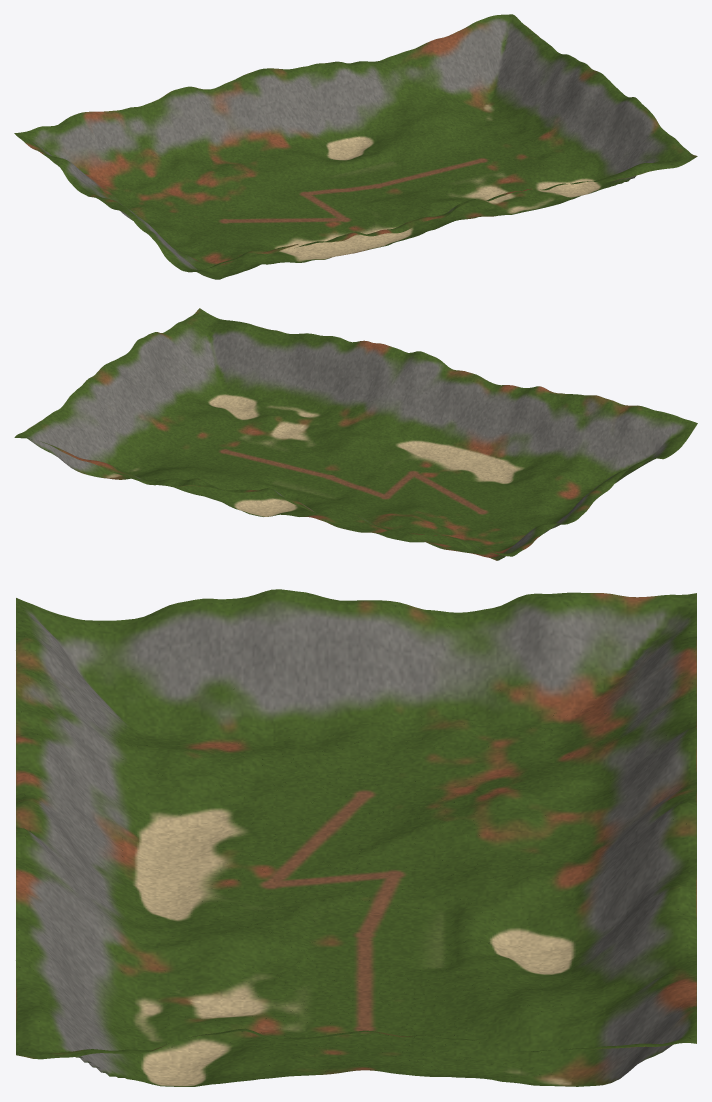
The model's file is SM_Art_Terrain_L_CrownCitadelApproach.gltf.
3 views of the same model, one above another, from view 1: azimuth 30°, elevation 25°; view 2: azimuth 150°, elevation 25°; view 3: azimuth 270°, elevation 25° (orthographic). The views are drawn at different scales.
Visible parts, largest first — view 1: SM_Art_Terrain_L_CrownCitadelApproach; view 2: SM_Art_Terrain_L_CrownCitadelApproach; view 3: SM_Art_Terrain_L_CrownCitadelApproach.
Part boxes in pixels (x1,y1,x2,y2): SM_Art_Terrain_L_CrownCitadelApproach: [14, 14, 697, 279]; SM_Art_Terrain_L_CrownCitadelApproach: [14, 308, 697, 560]; SM_Art_Terrain_L_CrownCitadelApproach: [16, 589, 696, 1086].
Bounding box in the file's own units: 248 × 29.3 × 161.
Materials: 2 (2 with a texture image).
